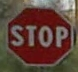stop: (4, 5, 73, 67)
